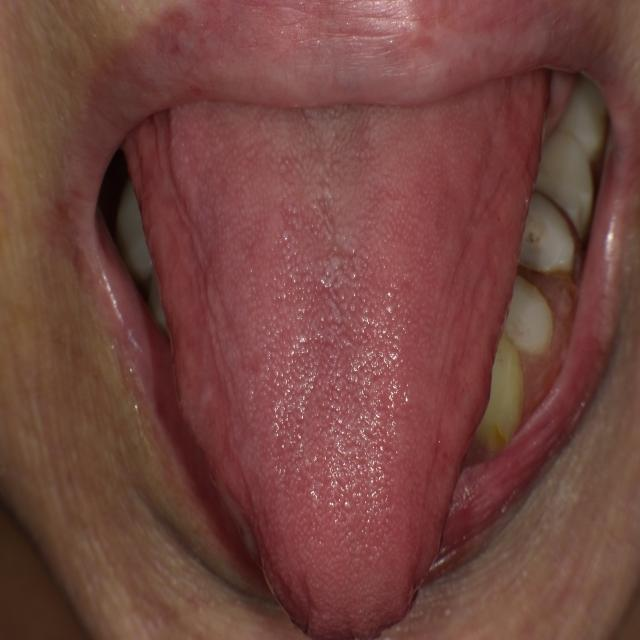baitaishe: (124, 69, 552, 640)
gandanao: (125, 103, 265, 525)
